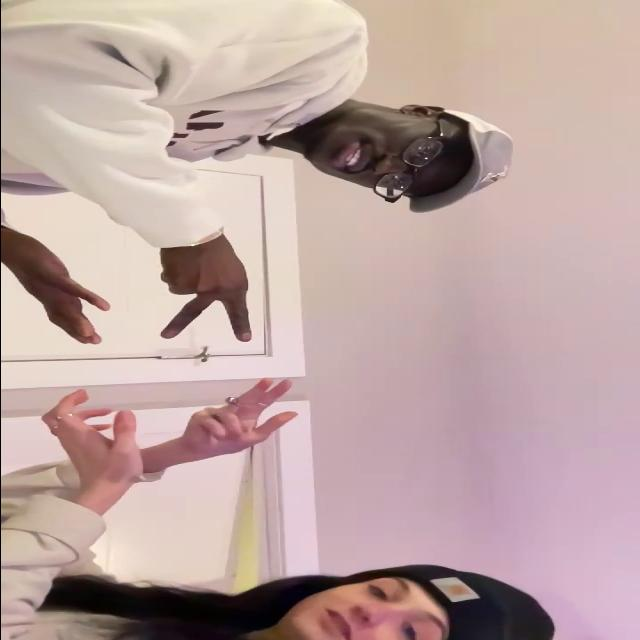Scissors: (154, 234, 250, 344)
